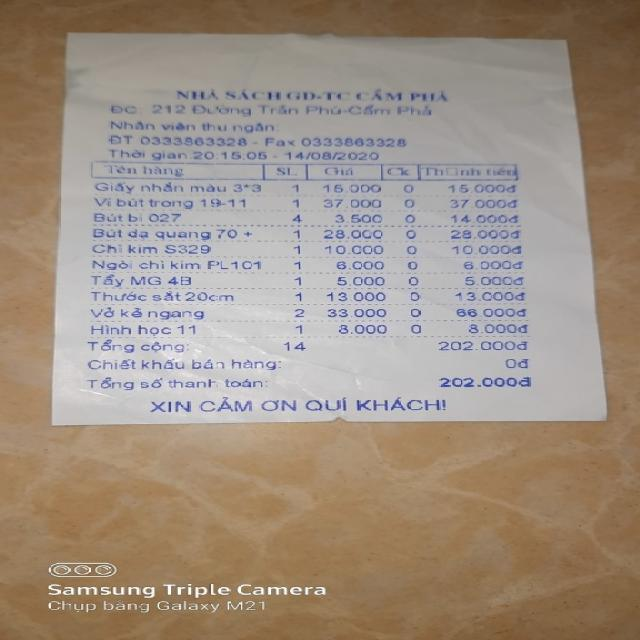Date: (281, 150, 386, 163)
Store_Name: (172, 85, 456, 105)
amount_number: (434, 340, 517, 353)
label_total: (84, 341, 189, 353)
